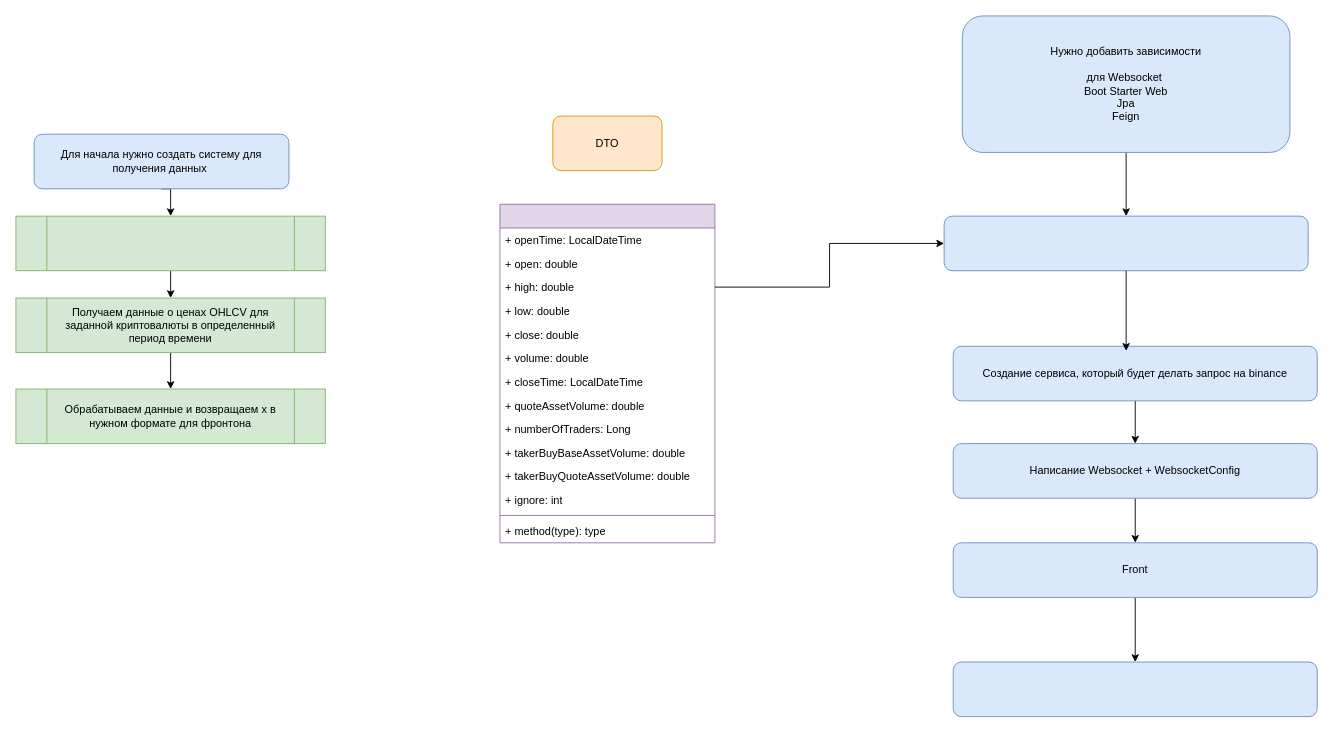
Image size: 1333x733. Some labels were removed from this diagram. The shapes that lost their labels are listed below. From the top down, each one's box as (x1, y1, x2, y2) in pixels, then its label:
(15, 215, 325, 271): Spring делает запрос API Binanceчерез Rest Api/websocket
(943, 215, 1308, 271): Создание DTO класса TradingData
(499, 203, 715, 543): TradingData
(952, 661, 1317, 717): DB(опционально)
